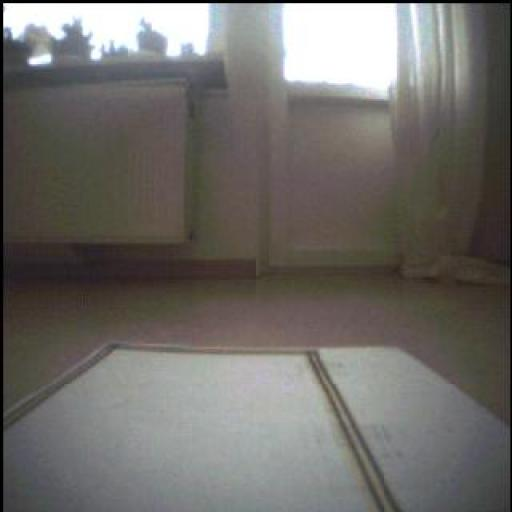Pad: (5, 343, 399, 512)
